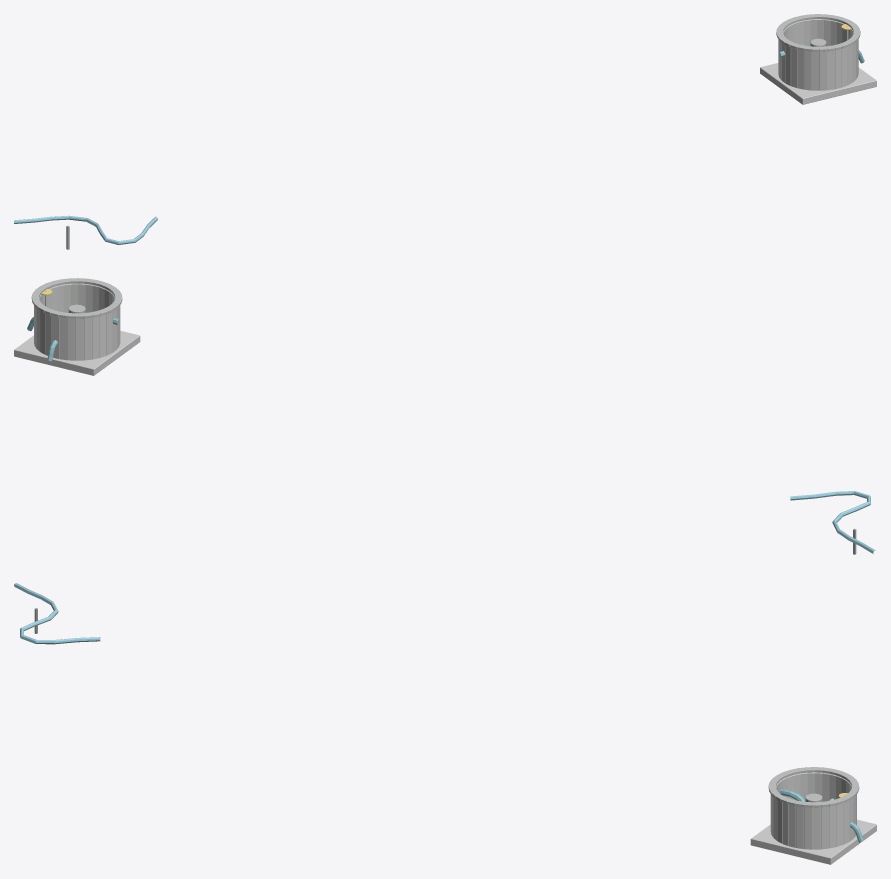
The picture shows the model from 3 angles, top to bottom: view 1: azimuth 30°, elevation 25°; view 2: azimuth 150°, elevation 25°; view 3: azimuth 330°, elevation 25°; orthographic projection. The views are drawn at different scales.
Parts seen in each view (by area): view 1: render-batch-5, render-batch-3, render-batch-1; view 2: render-batch-5, render-batch-3, render-batch-1; view 3: render-batch-5, render-batch-3, render-batch-1.
Part boxes in pixels (x1,y1,x2,y2): render-batch-5: (760,19,876,104); render-batch-3: (776,14,860,51); render-batch-1: (14,215,157,244); render-batch-5: (14,283,140,375); render-batch-3: (31,278,122,318); render-batch-1: (790,491,875,553); render-batch-5: (750,772,876,864); render-batch-3: (768,767,859,807); render-batch-1: (14,583,100,644).
Bounding box in the file's own units: 59.4 × 3.36 × 6.81.
